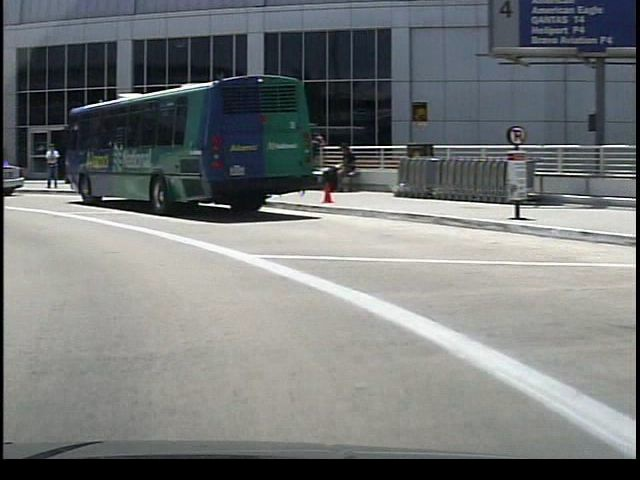person: (322, 141, 354, 198), (38, 141, 57, 193)
